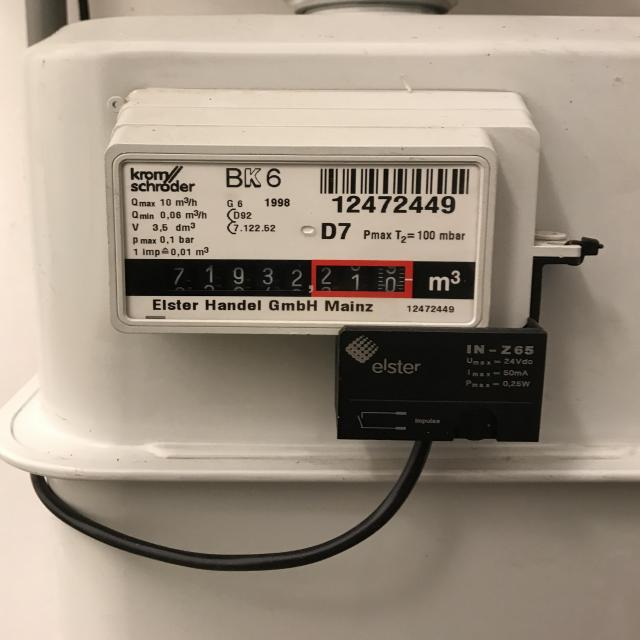gaz_meter: (120, 157, 477, 326)
indication: (124, 257, 414, 299)
